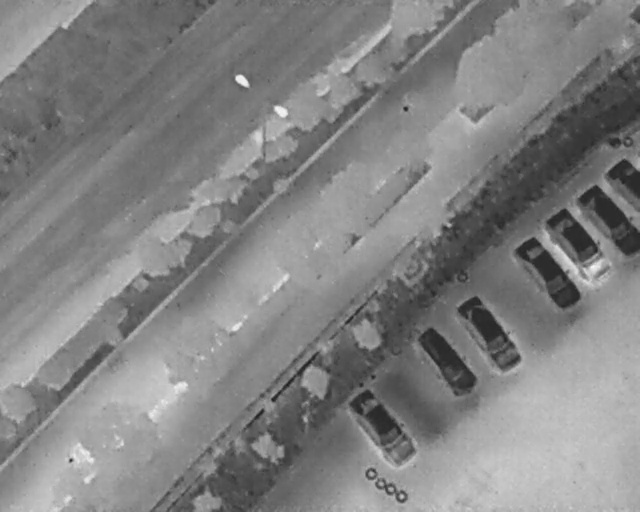Car: (338, 377, 424, 473), (538, 200, 619, 291), (449, 289, 529, 381), (508, 228, 588, 319), (409, 319, 484, 404), (575, 183, 639, 258), (602, 156, 639, 210)
